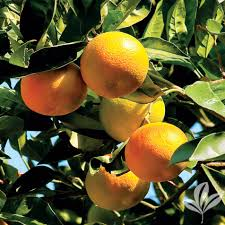orange: (75, 28, 150, 97), (80, 152, 157, 212), (123, 121, 197, 183), (17, 56, 89, 118), (96, 84, 171, 139)
